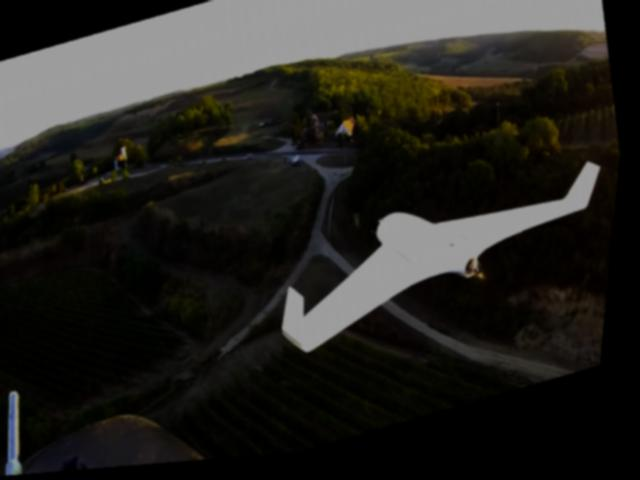plane: (266, 162, 625, 366)
